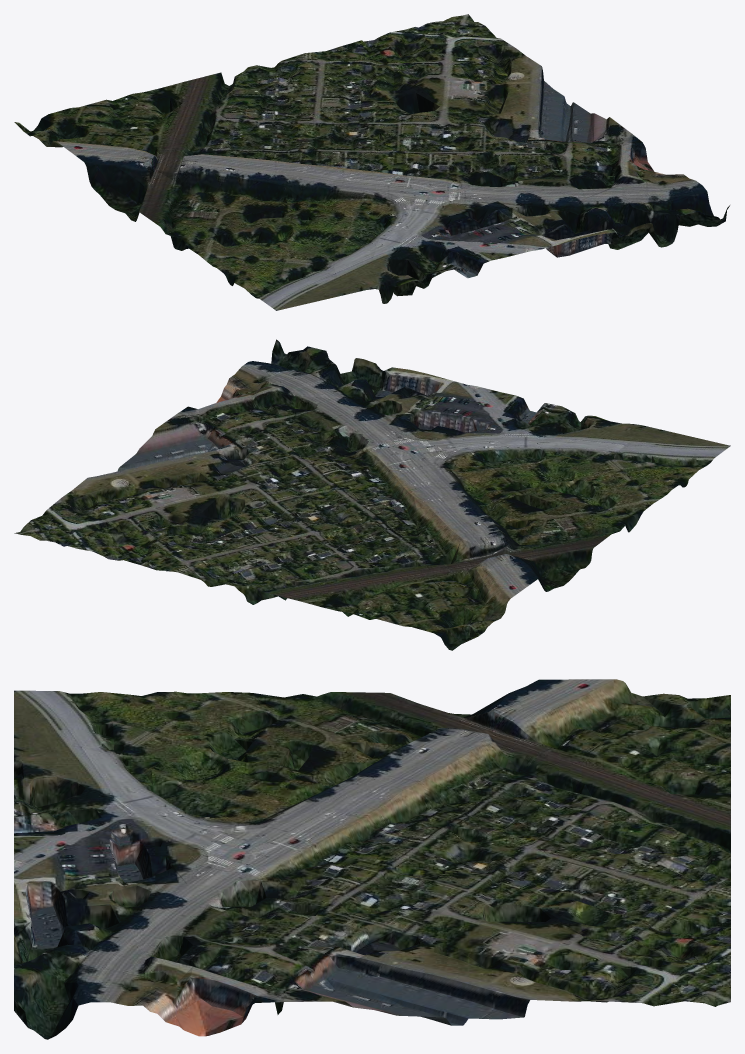
Rendered from map_13_2047_3448.dae.
The picture shows the model from 3 angles, top to bottom: view 1: azimuth 30°, elevation 25°; view 2: azimuth 150°, elevation 25°; view 3: azimuth 270°, elevation 25°; orthographic projection. The views are drawn at different scales.
Parts seen in each view (by area): view 1: Ter0; view 2: Ter0; view 3: Ter0.
Part boxes in pixels (x1=…): Ter0: x1=14, y1=14, x2=729, y2=310; Ter0: x1=14, y1=339, x2=730, y2=650; Ter0: x1=14, y1=679, x2=730, y2=1039.
Size of the model in its own units: 256 by 256 by 23.34.
2 materials, 2 textured.
